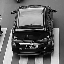mobil: (9, 4, 53, 57)
